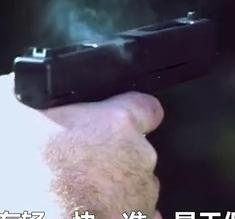gun: (1, 1, 235, 219)
